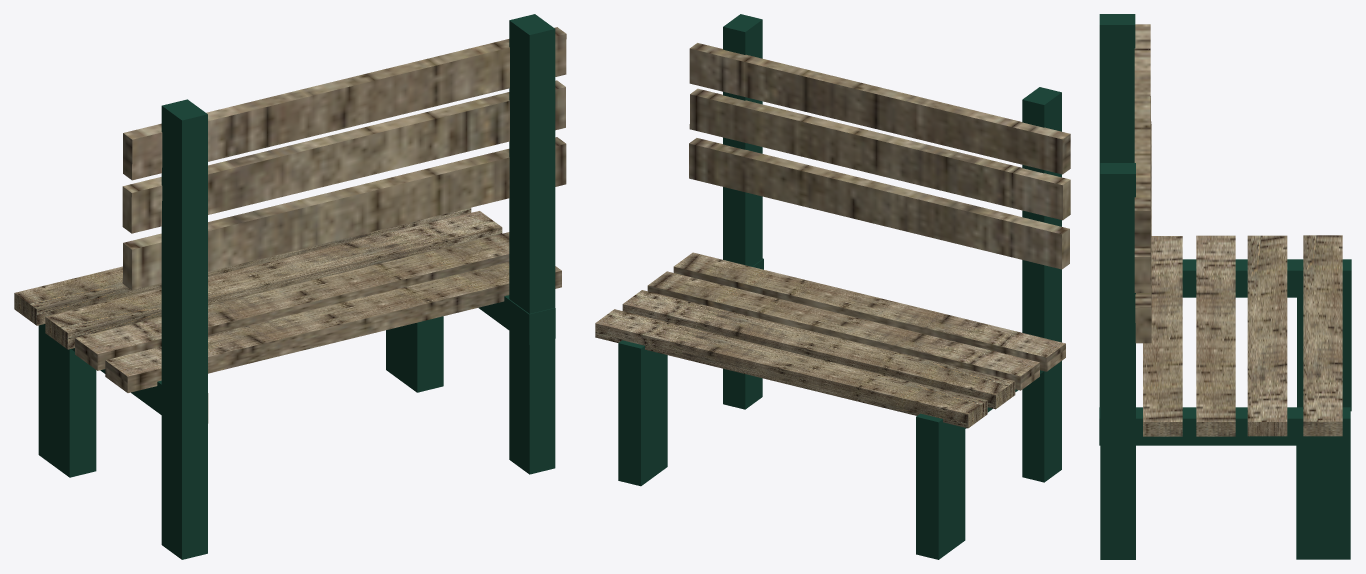
The model's file is bench.fbx.
The picture shows the model from 3 angles, left to right: view 1: azimuth 30°, elevation 25°; view 2: azimuth 150°, elevation 25°; view 3: azimuth 270°, elevation 25°; orthographic projection. The views are drawn at different scales.
Parts seen in each view (by area): view 1: Cube; view 2: Cube; view 3: Cube.
Boxes of the visible parts, x1,y1,x2,y2 form: Cube: [14, 14, 566, 559]; Cube: [595, 14, 1070, 559]; Cube: [1099, 14, 1351, 559].
Size of the model in its own units: 568 by 549 by 325.
